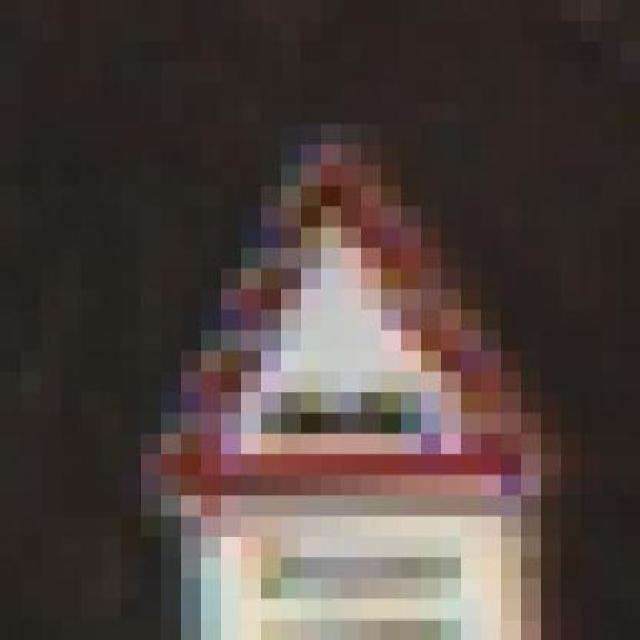Uneven Road: (140, 82, 560, 516)
